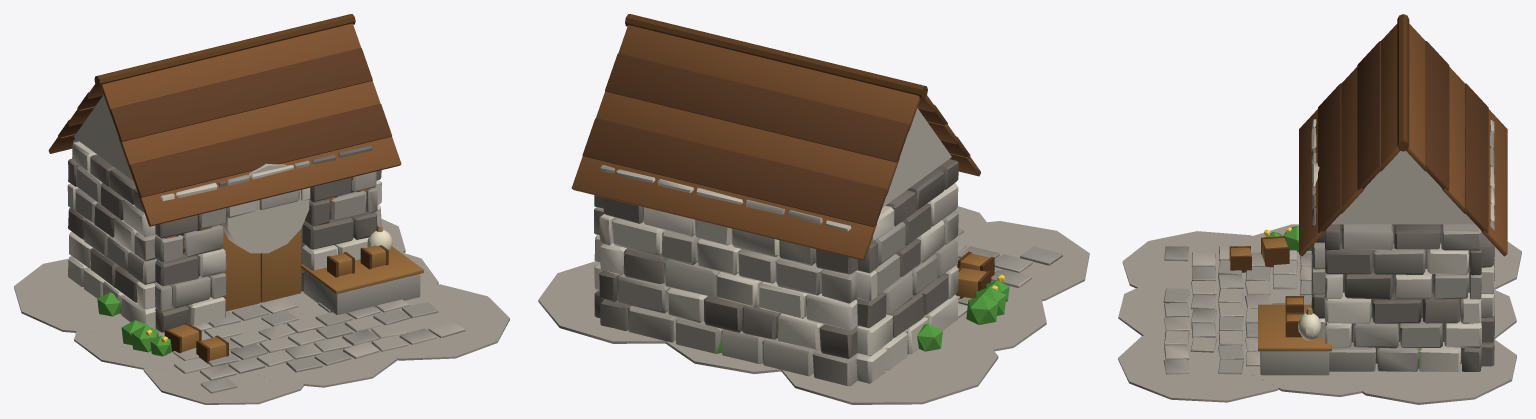
Rendered from magazyn_poz12.glb.
3 renders of one model, left to right at view 1: azimuth 30°, elevation 25°; view 2: azimuth 150°, elevation 25°; view 3: azimuth 270°, elevation 25°, orthographic. The views are drawn at different scales.
Visible parts, largest first — view 1: magazyn_poz12; view 2: magazyn_poz12; view 3: magazyn_poz12.
Boxes of the visible parts, x1,y1,x2,y2 form: magazyn_poz12: (14, 14, 509, 404); magazyn_poz12: (538, 14, 1089, 404); magazyn_poz12: (1118, 14, 1521, 404).
Bounding box in the file's own units: 8.83 × 5.45 × 8.2.
